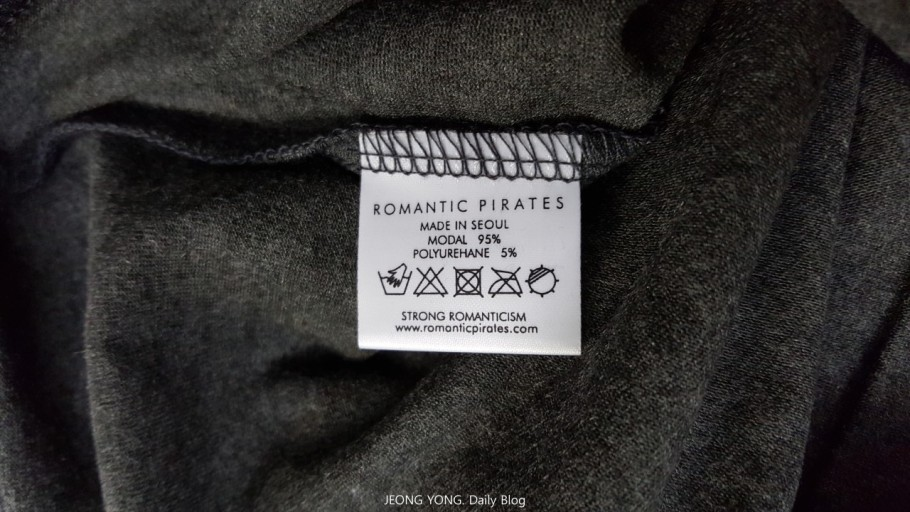ER_hand_wash: (376, 258, 414, 300)
ER_no_bleach: (413, 264, 449, 301)
ER_no_iron: (484, 265, 524, 300)
ER_no_tumble_dry: (449, 265, 483, 298)
